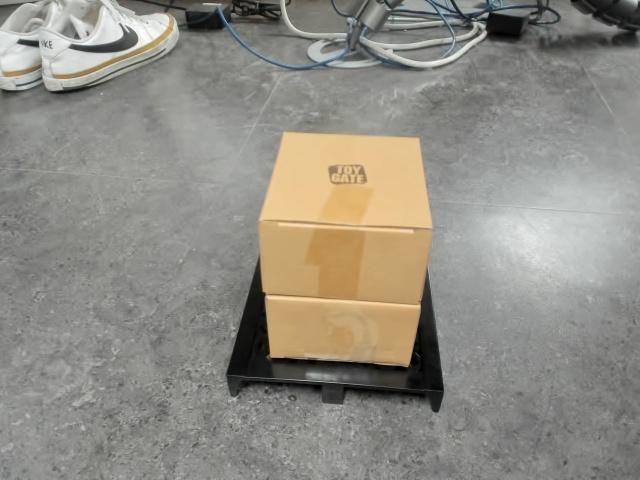box: (226, 131, 448, 413)
